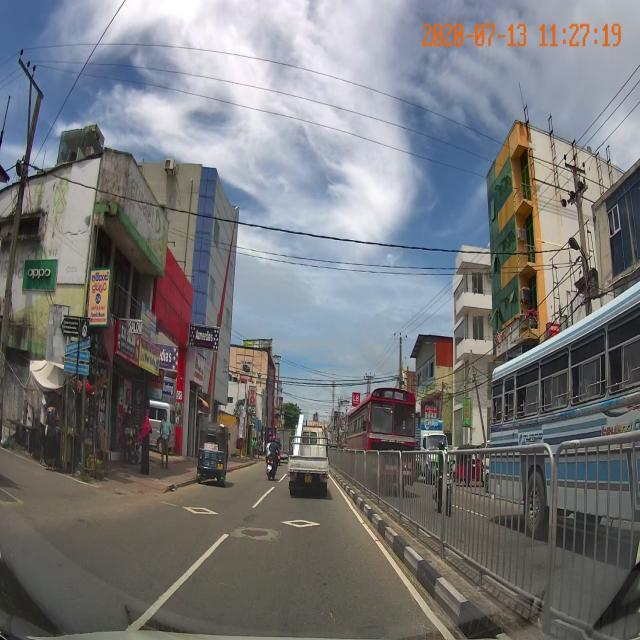diamond: (227, 505, 379, 540)
